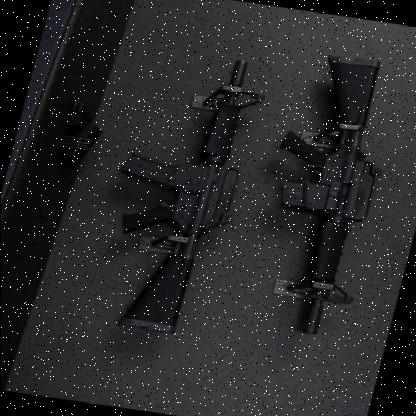rifle: (232, 44, 414, 340), (84, 47, 266, 343)
